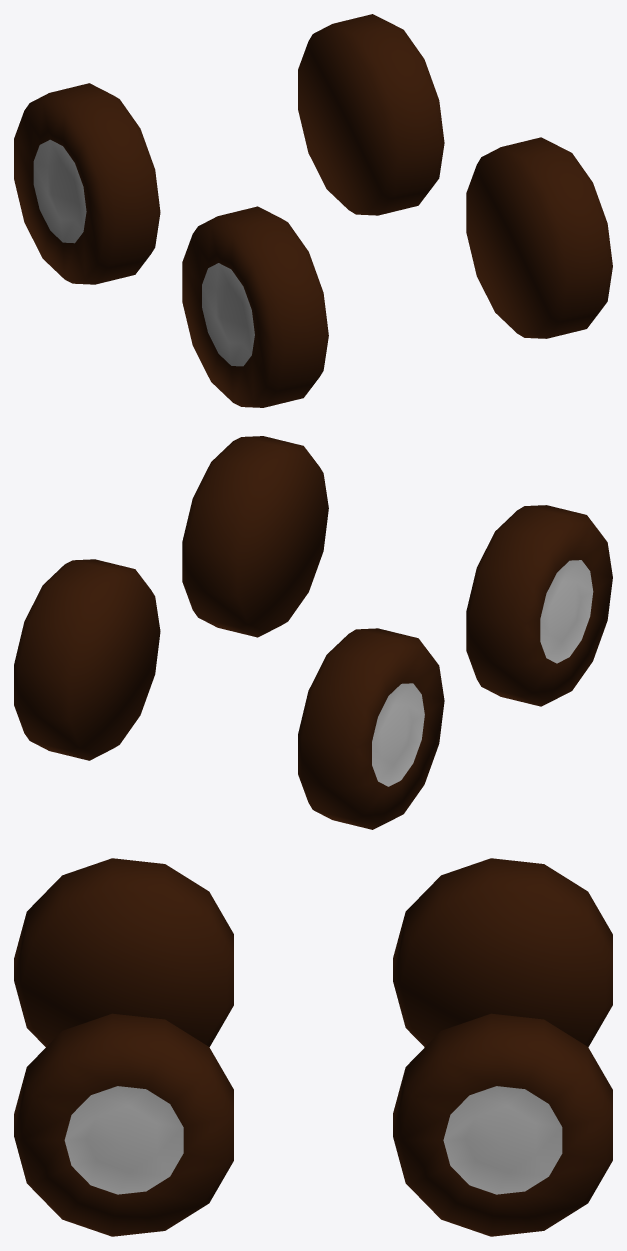
File: Wheels_mid_thin.fbx
3 views of the same model, one above another, from view 1: azimuth 30°, elevation 25°; view 2: azimuth 150°, elevation 25°; view 3: azimuth 270°, elevation 25° (orthographic). The views are drawn at different scales.
Visible parts, largest first — view 1: wheel_mid_thin_rightfront, wheel_mid_thin_rightback, wheel_mid_thin_leftfront, wheel_mid_thin_leftback; view 2: wheel_mid_thin_leftfront, wheel_mid_thin_leftback, wheel_mid_thin_rightfront, wheel_mid_thin_rightback; view 3: wheel_mid_thin_leftback, wheel_mid_thin_leftfront, wheel_mid_thin_rightback, wheel_mid_thin_rightfront.
Boxes of the visible parts, x1=… form: wheel_mid_thin_rightfront: x1=182, y1=206, x2=328, y2=407; wheel_mid_thin_rightback: x1=14, y1=83, x2=160, y2=284; wheel_mid_thin_leftfront: x1=466, y1=137, x2=612, y2=338; wheel_mid_thin_leftback: x1=298, y1=14, x2=444, y2=215; wheel_mid_thin_leftfront: x1=182, y1=436, x2=328, y2=637; wheel_mid_thin_leftback: x1=14, y1=559, x2=160, y2=760; wheel_mid_thin_rightfront: x1=466, y1=505, x2=612, y2=706; wheel_mid_thin_rightback: x1=298, y1=628, x2=444, y2=829; wheel_mid_thin_leftback: x1=393, y1=1013, x2=612, y2=1236; wheel_mid_thin_leftfront: x1=14, y1=1013, x2=233, y2=1236; wheel_mid_thin_rightback: x1=393, y1=858, x2=612, y2=1047; wheel_mid_thin_rightfront: x1=14, y1=858, x2=233, y2=1046.
Size of the model in its own units: 146 by 70.25 by 190.
